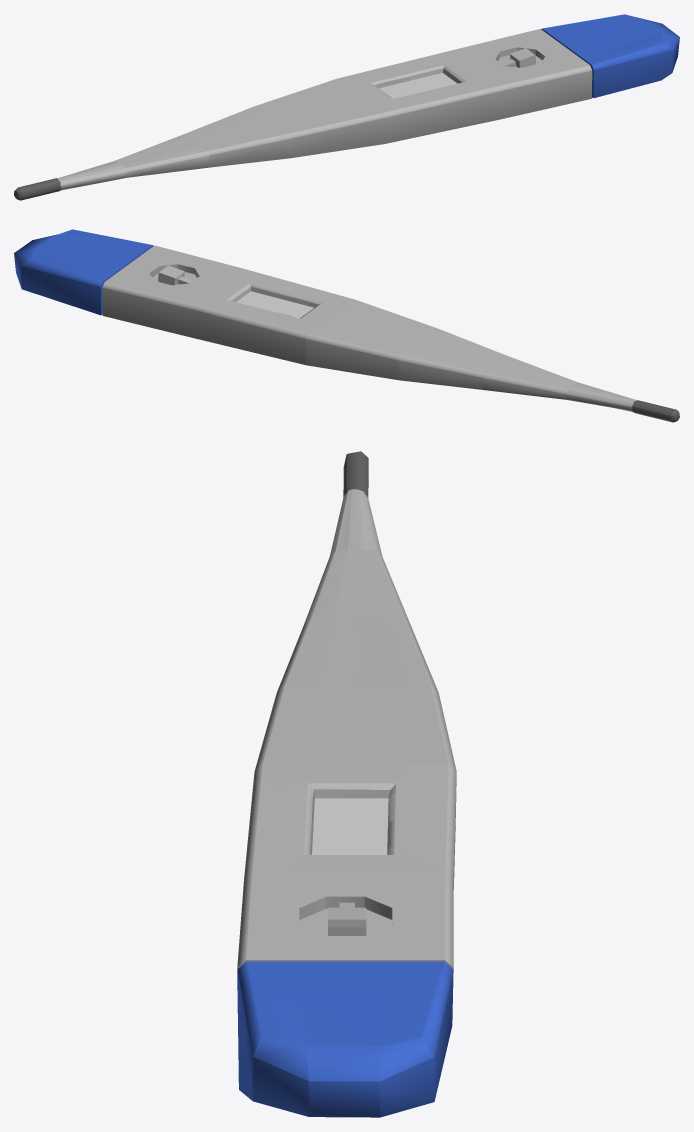
Rendered from tharmaameeter.fbx.
The picture shows the model from 3 angles, top to bottom: view 1: azimuth 30°, elevation 25°; view 2: azimuth 150°, elevation 25°; view 3: azimuth 270°, elevation 25°; orthographic projection. The views are drawn at different scales.
Visible parts, largest first — view 1: polySurface4, polySurface6, polySurface5; view 2: polySurface4, polySurface6, polySurface5; view 3: polySurface4, polySurface5, polySurface6.
Boxes of the visible parts, left/top/right/bottom form: polySurface4: left=57, top=14, right=679, bottom=190; polySurface6: left=14, top=178, right=61, bottom=200; polySurface5: left=501, top=48, right=535, bottom=67; polySurface4: left=14, top=229, right=636, bottom=412; polySurface6: left=632, top=400, right=679, bottom=422; polySurface5: left=158, top=265, right=193, bottom=285; polySurface4: left=237, top=489, right=456, bottom=1117; polySurface5: left=328, top=902, right=366, bottom=935; polySurface6: left=343, top=451, right=368, bottom=497.
Size of the model in its own units: 5.52 by 0.3031 by 0.8027.
